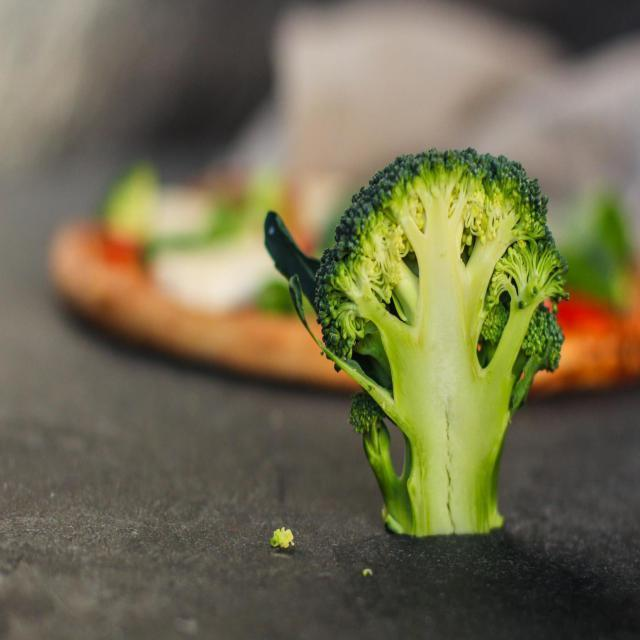broccoli: (290, 131, 568, 548)
